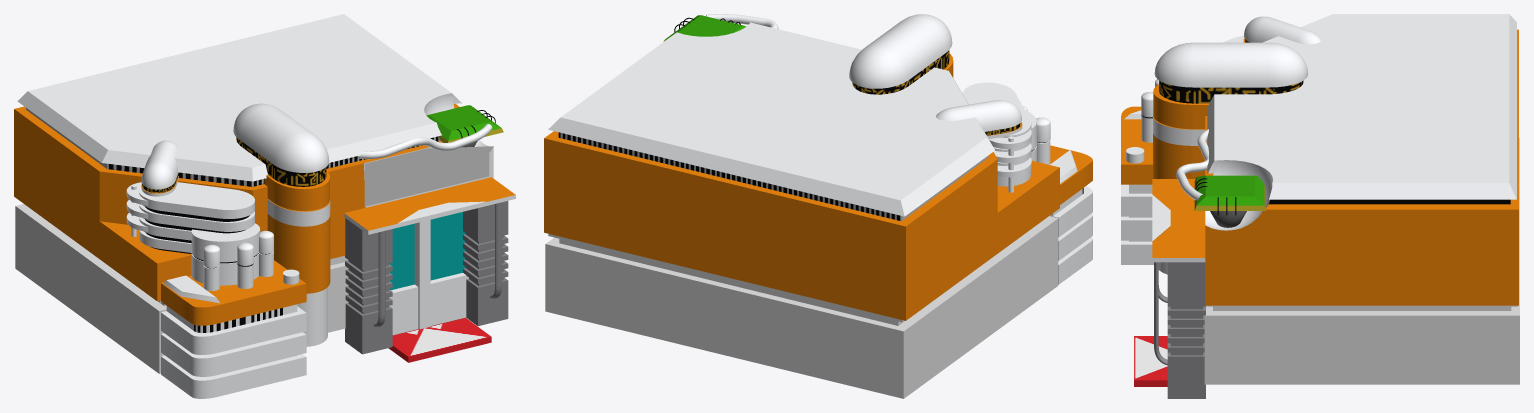
Rendered from East - Station.fbx.
3 views of the same model, side by side, from view 1: azimuth 30°, elevation 25°; view 2: azimuth 150°, elevation 25°; view 3: azimuth 270°, elevation 25° (orthographic). The views are drawn at different scales.
Parts seen in each view (by area): view 1: Plane.001, Plane.002, Sphere, Plane, Plane.013, Cylinder.011, Cube.014, east-station, Cube.001, Cylinder.004, Plane.010, Cube (+5 smaller); view 2: Plane.001, Plane, Sphere, Plane.002, Cylinder.011, Sphere.001, Plane.003, Cylinder.004, Plane.004; view 3: Plane.001, Plane, Sphere, Cube.001, Plane.002, Plane.010, Plane.003, Cube, Sphere.001, Plane.004, Cylinder.004, Plane.012 (+1 smaller).
Part boxes in pixels (<box>): Plane.001: <box>14,14,493,301</box>; Plane.002: <box>161,260,306,398</box>; Sphere: <box>233,103,330,346</box>; Plane: <box>15,204,348,373</box>; Plane.013: <box>389,212,468,335</box>; Cylinder.011: <box>126,182,254,253</box>; Cube.014: <box>345,218,392,354</box>; east-station: <box>364,146,493,206</box>; Cube.001: <box>463,201,508,326</box>; Cylinder.004: <box>191,223,273,290</box>; Plane.010: <box>344,177,515,234</box>; Cube: <box>388,317,491,362</box>; Plane.001: <box>544,22,1059,320</box>; Plane: <box>545,216,1058,398</box>; Sphere: <box>849,14,953,94</box>; Plane.002: <box>1050,145,1092,284</box>; Cylinder.011: <box>962,82,1031,192</box>; Sphere.001: <box>936,100,1022,138</box>; Plane.003: <box>663,15,746,41</box>; Cylinder.004: <box>1023,106,1050,164</box>; Plane.004: <box>706,14,778,29</box>; Plane.001: <box>1205,14,1518,305</box>; Plane: <box>1204,137,1519,384</box>; Sphere: <box>1153,42,1308,274</box>; Cube.001: <box>1167,262,1205,398</box>; Plane.002: <box>1121,106,1153,264</box>; Plane.010: <box>1152,179,1205,262</box>; Plane.003: <box>1194,175,1265,210</box>; Cube: <box>1134,336,1167,386</box>; Sphere.001: <box>1243,16,1320,44</box>; Plane.004: <box>1176,129,1208,200</box>; Cylinder.004: <box>1141,79,1158,142</box>; Plane.012: <box>1154,262,1167,365</box>.
Bounding box in the file's own units: 0.1594 × 0.102 × 0.1459.
